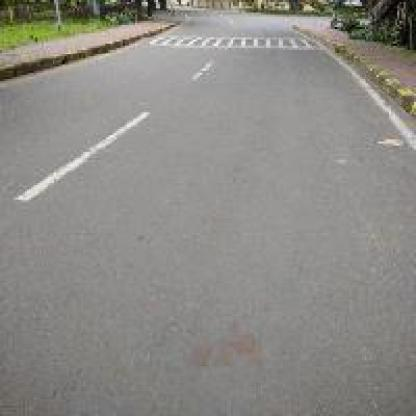Speed Bump: (144, 33, 324, 50)
